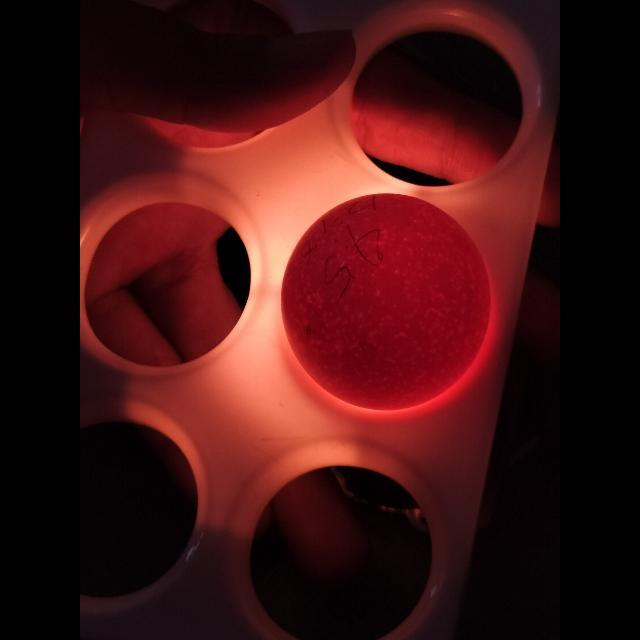Infertile: (282, 194, 498, 416)
